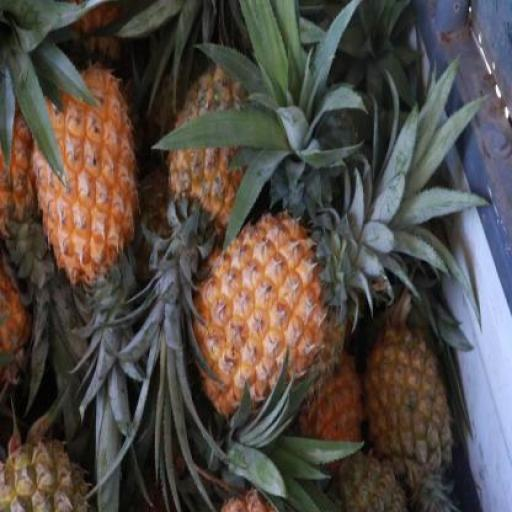------------------------------: (362, 311, 448, 484)
Pineapple - v8 v1: (189, 210, 338, 420), (26, 65, 138, 292)
